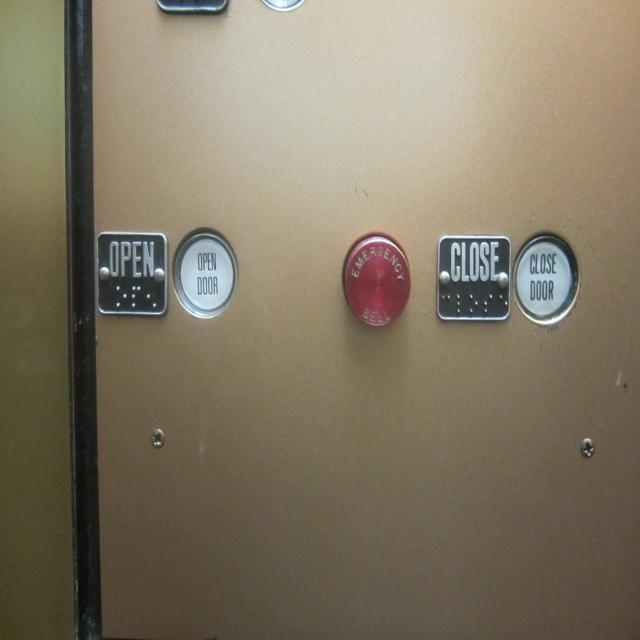text: (339, 230, 416, 330)
text_close: (512, 227, 583, 332)
text_close door: (433, 228, 512, 326)
text_open door: (95, 227, 170, 321)
text_open hold: (169, 223, 242, 321)
